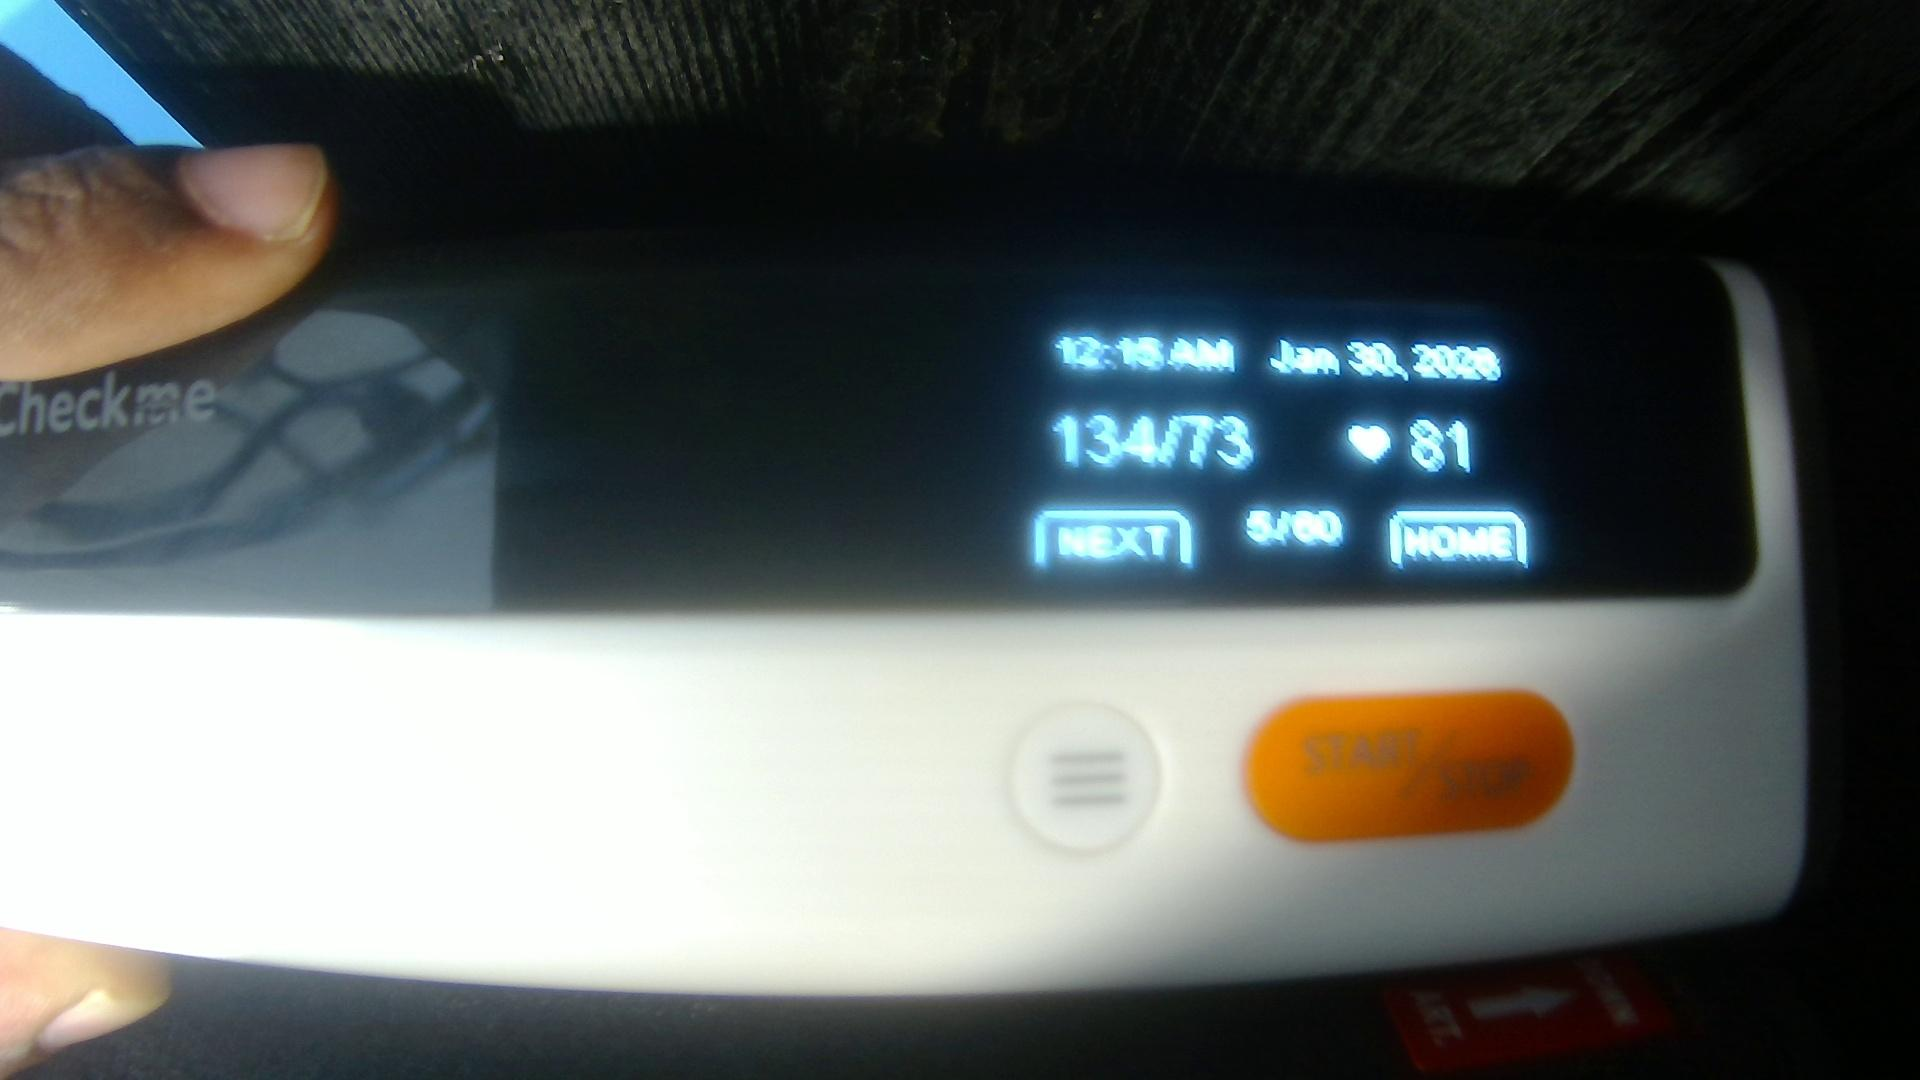DISPLAY: (1, 250, 1747, 603)
